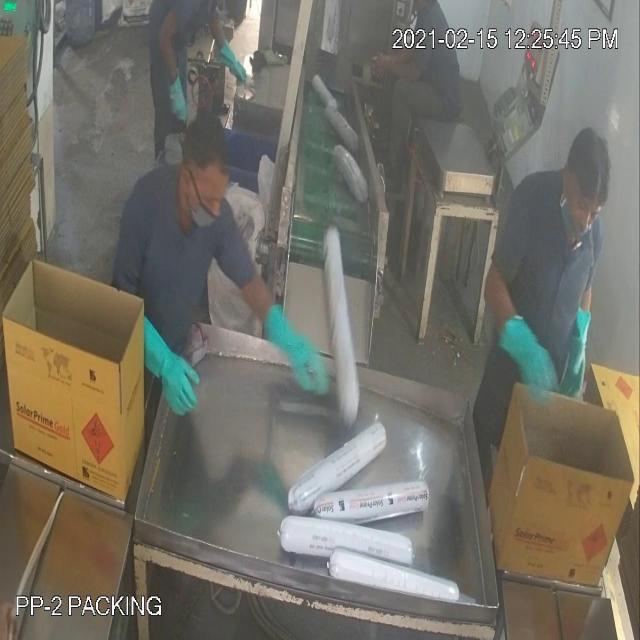Gloves: (31, 48, 577, 370)
